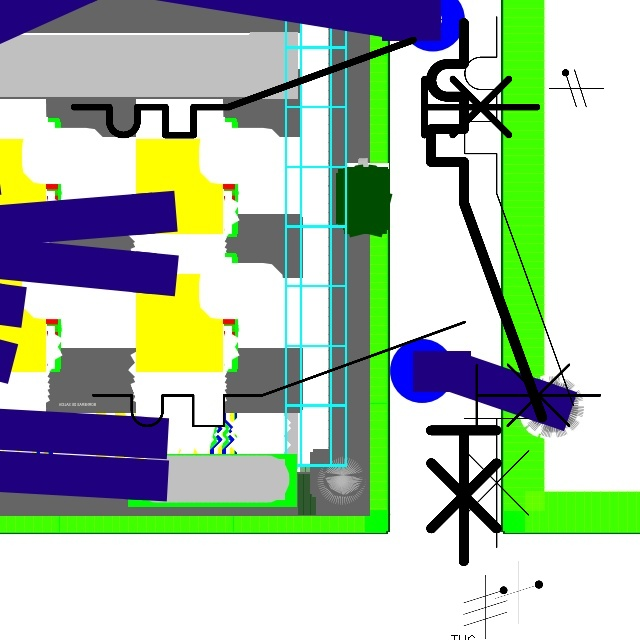interruptor_termomagnetico: (417, 9, 555, 575), (451, 3, 587, 561), (80, 309, 613, 439), (62, 28, 549, 147)
